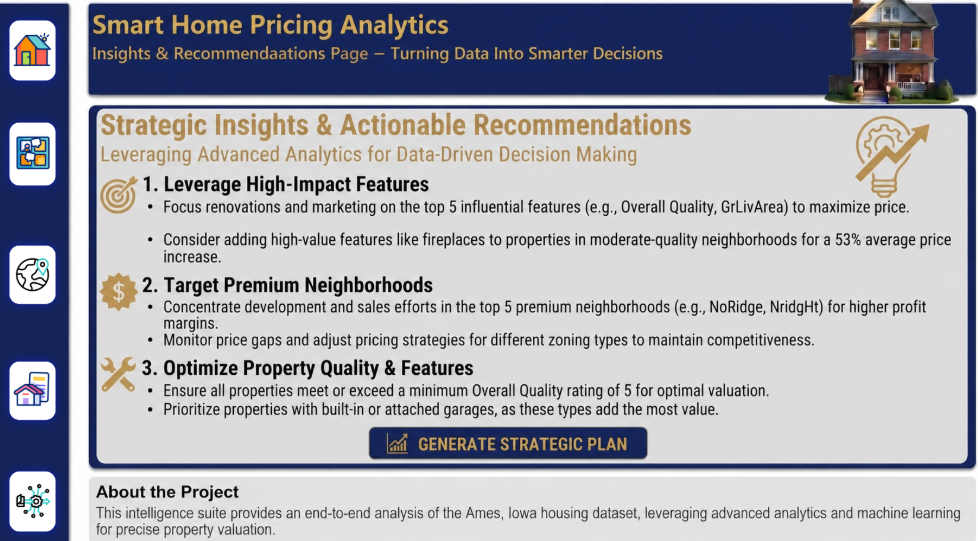

The page's visual inventory and layout, read from the dashboard file:
{"tool":"powerbi","page":{"name":"Page 4","canvas":[1920,1080],"ordinal":4},"visuals":[{"type":"shape","box":[178,50,1282,326],"z":0},{"type":"image","box":[33,179.6,90.7,117.7],"z":0,"group":"g2"},{"type":"shape","box":[177.5,375.7,625.5,704],"z":1000},{"type":"image","box":[33.2,390.8,90.7,124.2],"z":1000,"group":"g2"},{"type":"shape","box":[803.1,375.7,656.5,704],"z":2000},{"type":"image","box":[33.2,628,90.7,114.8],"z":2000,"group":"g2"},{"type":"image","box":[33,853.4,90.7,114.8],"z":2000,"group":"g1"},{"type":"textbox","box":[192,64,866,184],"z":3000},{"type":"shape","box":[0,50,158,1030],"z":4000},{"type":"group","id":"g1","title":"Group 2","box":[33,179.6,90.8,788.6],"z":5000},{"type":"image","box":[175.5,247.7,272.5,128],"z":6000},{"type":"image","box":[410.8,247.7,272.5,128],"z":7000},{"type":"image","box":[881.5,247.7,272.5,128],"z":8000},{"type":"image","box":[646.2,247.7,272.5,128],"z":9000},{"type":"image","box":[1017.8,0,508,360],"z":10000},{"type":"cardVisual","fields":{"Data":["Fact_Properties.Best Accuracy"]},"box":[893.9,262.2,237.4,97],"z":11000},{"type":"group","id":"g2","title":"Group 1","box":[33,179.6,90.8,563.2],"z":12000,"group":"g1"},{"type":"cardVisual","fields":{"Data":["Fact_Properties.Regression R2"]},"box":[427.4,262.2,237.4,97],"z":12000},{"type":"cardVisual","fields":{"Data":["Fact_Properties.Avg Prediction Error"]},"box":[664.8,262.2,237.4,97],"z":13000},{"type":"cardVisual","fields":{"Data":["Fact_Properties.Models Tested Count"]},"box":[192,262.2,237.4,97],"z":14000},{"type":"shape","box":[1459.6,45.4,460.4,516.1],"z":15000},{"type":"image","box":[1460.6,565.5,459.2,514.5],"z":16000},{"type":"barChart","title":"What Drives a House''s Price the Most?","fields":{"Category":["Feature_Importance.Feature_Name"],"Y":["Sum(Feature_Importance.Importance)"]},"box":[176.5,391.2,610.2,648.4],"z":17000},{"type":"barChart","title":"Which Model Predicts Price Best?","fields":{"Category":["Model_Accuracy.Model_Name"],"Y":["Sum(Model_Accuracy.Accuracy)"]},"box":[833.4,391.2,593.1,663.3],"z":18000},{"type":"image","box":[1477.6,51,427.3,489],"z":19000}]}

Visuals, with their boxes in screenshot pixels (x1, y1, x2, y2), scaled from the page's 1920x1080 canvas onto the 978x541 screenshot:
shape: box=[91, 25, 744, 188]
image: box=[17, 90, 63, 149]
shape: box=[90, 188, 409, 540]
image: box=[17, 196, 63, 258]
shape: box=[409, 188, 743, 540]
image: box=[17, 315, 63, 372]
image: box=[17, 427, 63, 485]
textbox: box=[98, 32, 539, 124]
shape: box=[0, 25, 80, 540]
"Group 2" group: box=[17, 90, 63, 485]
image: box=[89, 124, 228, 188]
image: box=[209, 124, 348, 188]
image: box=[449, 124, 588, 188]
image: box=[329, 124, 468, 188]
image: box=[518, 0, 777, 180]
cardVisual - Fact_Properties.Best Accuracy: box=[455, 131, 576, 180]
"Group 1" group: box=[17, 90, 63, 372]
cardVisual - Fact_Properties.Regression R2: box=[218, 131, 339, 180]
cardVisual - Fact_Properties.Avg Prediction Error: box=[339, 131, 460, 180]
cardVisual - Fact_Properties.Models Tested Count: box=[98, 131, 219, 180]
shape: box=[743, 23, 977, 281]
image: box=[744, 283, 977, 540]
"What Drives a House''s Price the Most?" barChart: box=[90, 196, 401, 521]
"Which Model Predicts Price Best?" barChart: box=[425, 196, 727, 528]
image: box=[753, 26, 970, 270]
